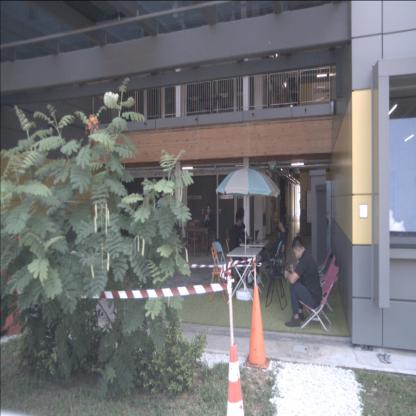human-pedestrian-adult: (284, 236, 322, 327), (248, 215, 289, 286), (229, 212, 256, 286), (237, 208, 260, 286), (259, 211, 286, 269), (203, 204, 214, 252)
movable_object-trafficcone: (243, 284, 271, 370), (221, 342, 250, 416)
